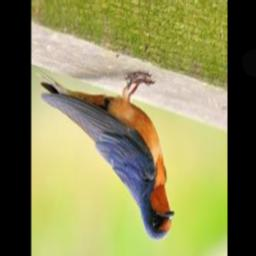Swallow: (39, 61, 178, 247)
